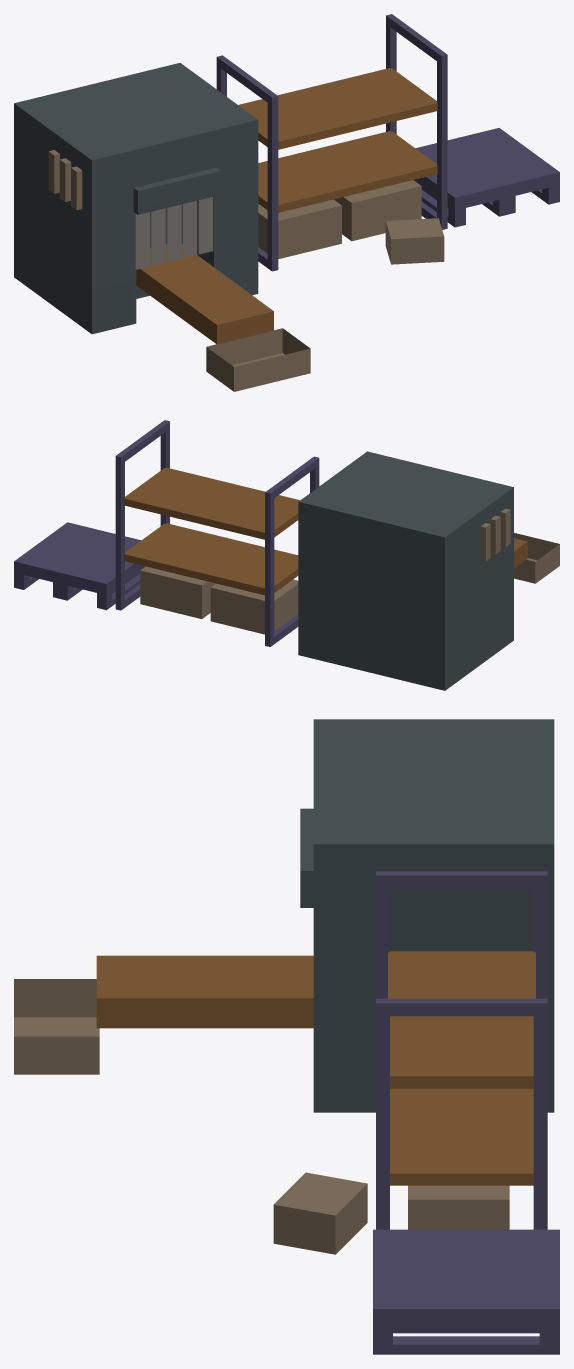
The picture shows the model from 3 angles, top to bottom: view 1: azimuth 30°, elevation 25°; view 2: azimuth 150°, elevation 25°; view 3: azimuth 270°, elevation 25°; orthographic projection. The views are drawn at different scales.
Parts seen in each view (by area): view 1: Cube.001, Plane.002, palette, box, box.001, box.002; view 2: Cube.001, Plane.002, palette, box, box.001; view 3: Cube.001, Plane.002, palette, box.002, box.001.
Boxes of the visible parts, left/top/right/bottom form: Cube.001: left=14, top=63, right=310, bottom=391; Plane.002: left=216, top=14, right=447, bottom=271; palette: left=414, top=128, right=559, bottom=227; box: left=258, top=199, right=341, bottom=258; box.001: left=334, top=180, right=421, bottom=241; box.002: left=385, top=218, right=444, bottom=264; Cube.001: left=298, top=451, right=559, bottom=690; Plane.002: left=115, top=420, right=319, bottom=646; palette: left=14, top=522, right=145, bottom=610; box: left=210, top=579, right=298, bottom=634; box.001: left=140, top=566, right=215, bottom=618; Cube.001: left=14, top=719, right=554, bottom=1112; Plane.002: left=376, top=871, right=547, bottom=1229; palette: left=373, top=1229, right=559, bottom=1354; box.002: left=273, top=1172, right=367, bottom=1254; box.001: left=408, top=1185, right=509, bottom=1229.
Size of the model in its own units: 593 by 201 by 369.
Materials: 5 (5 with a texture image).
